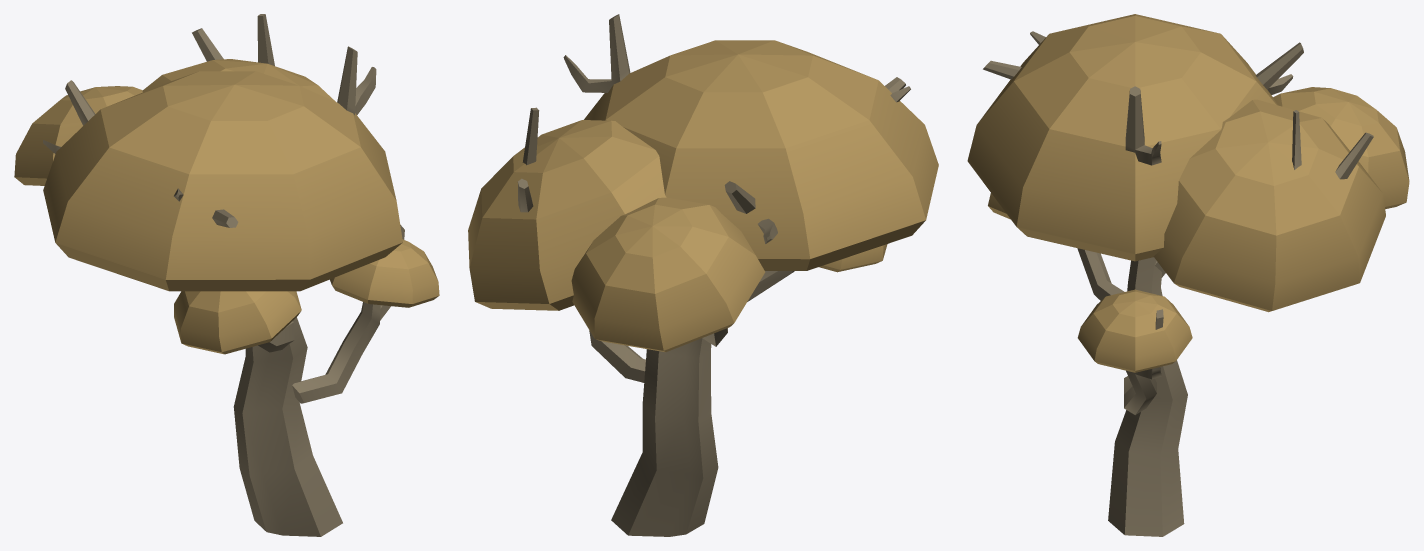
Rendered from chestnut-autum.fbx.
The picture shows the model from 3 angles, left to right: view 1: azimuth 30°, elevation 25°; view 2: azimuth 150°, elevation 25°; view 3: azimuth 270°, elevation 25°; orthographic projection. The views are drawn at different scales.
Visible parts, largest first — view 1: pSphere65; view 2: pSphere65; view 3: pSphere65.
Part boxes in pixels (x1=…): pSphere65: x1=14, y1=14, x2=439, y2=536; pSphere65: x1=468, y1=14, x2=938, y2=536; pSphere65: x1=967, y1=14, x2=1409, y2=536.
Size of the model in its own units: 17.99 by 21.35 by 18.83.
